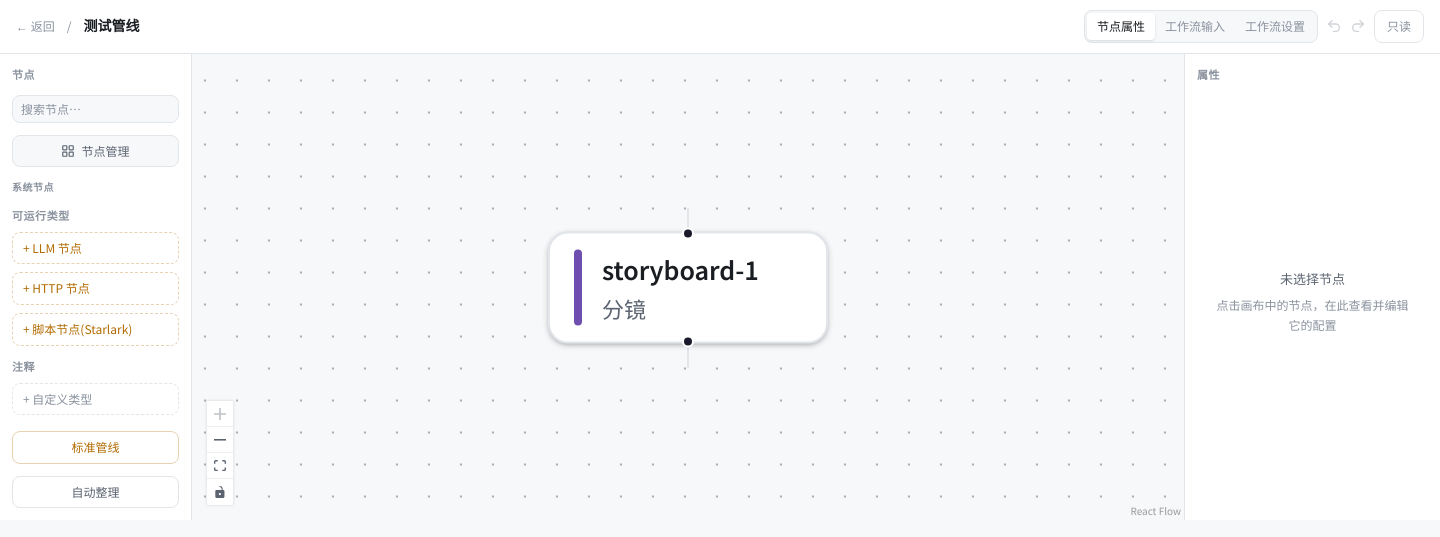
Scenario: WorkflowCanvas undo/redo wiring › enables 撤销 after a mutation and clears it on undo
Check: the button named "撤销" is disabled, box [1326,18,1342,34]
Click the button "自动整理" at [96, 492], box [12,476,179,508]
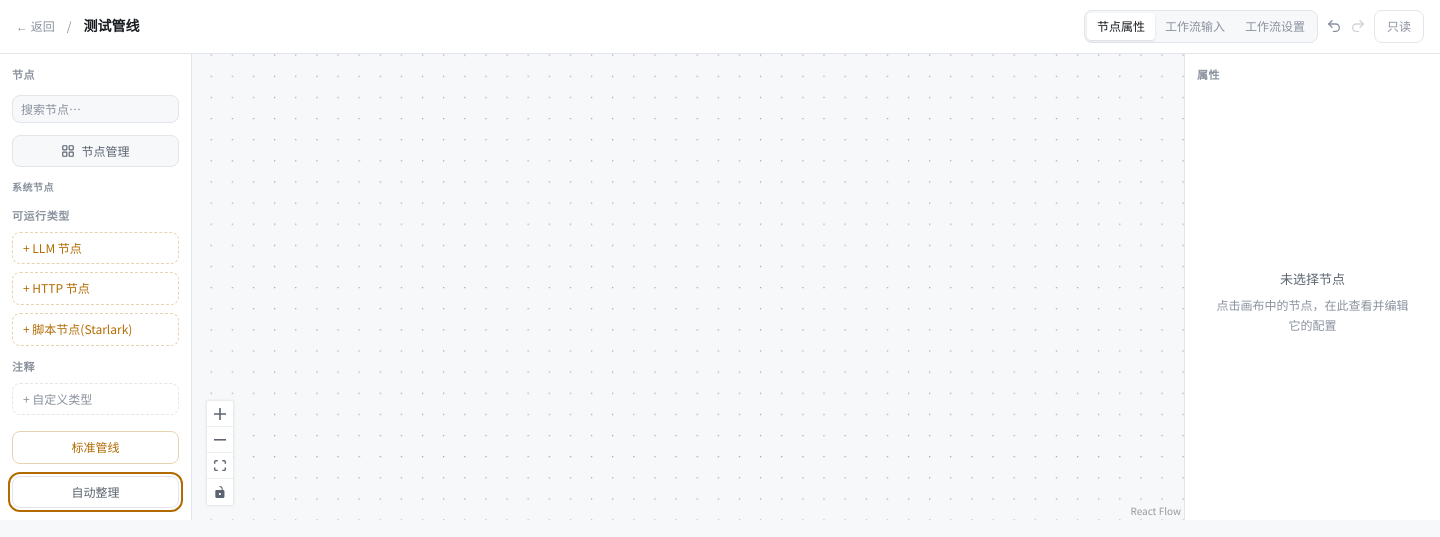
Check: the button named "撤销" is enabled
Click the button named "撤销" at [1334, 26], box [1326,18,1342,34]
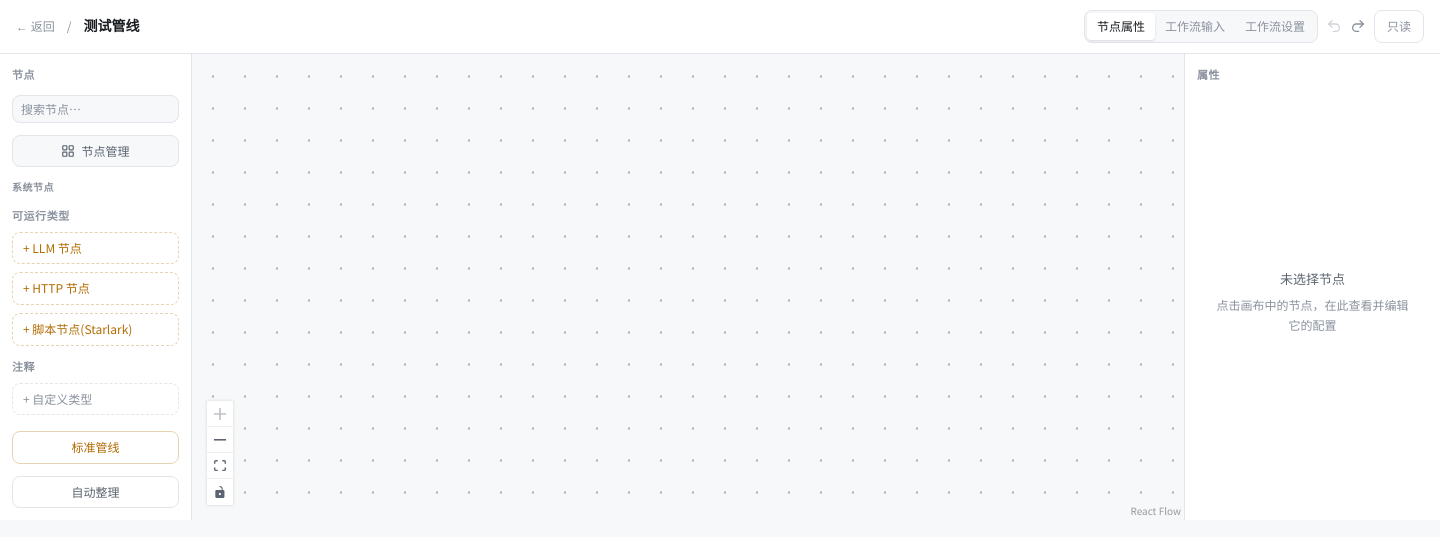
Check: the button named "撤销" is disabled, box [1326,18,1342,34]
